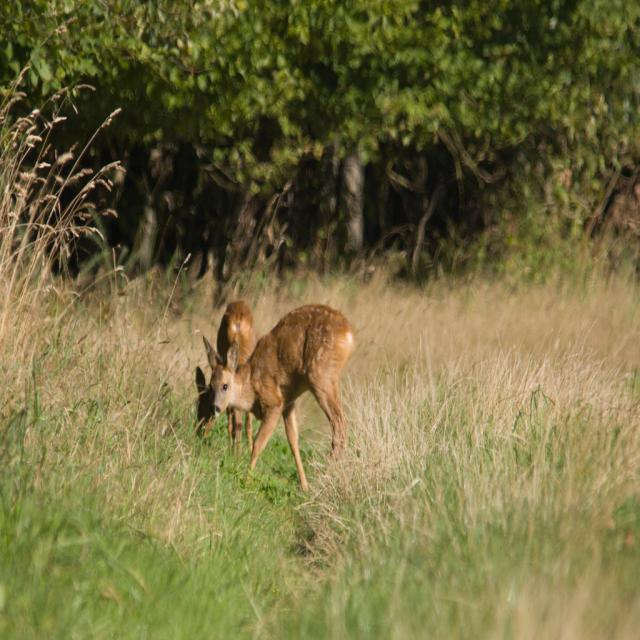Deer: (202, 303, 356, 492), (196, 299, 259, 457)
